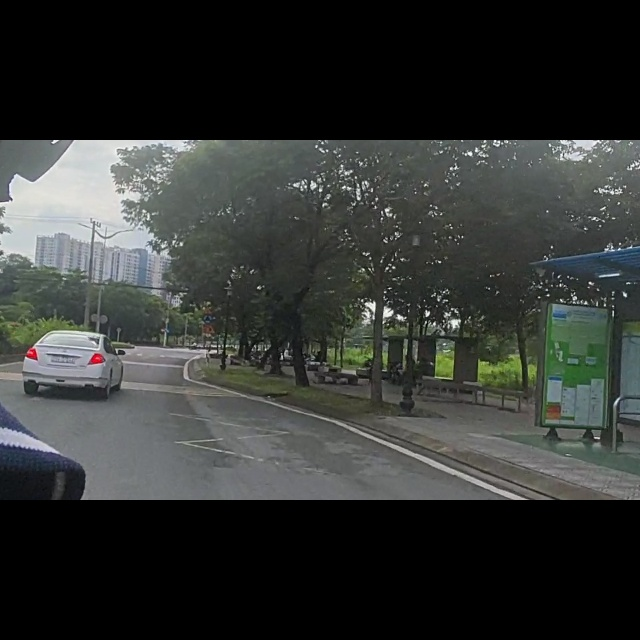bien_hieu_lenh: (204, 324, 216, 345), (203, 309, 212, 326)
